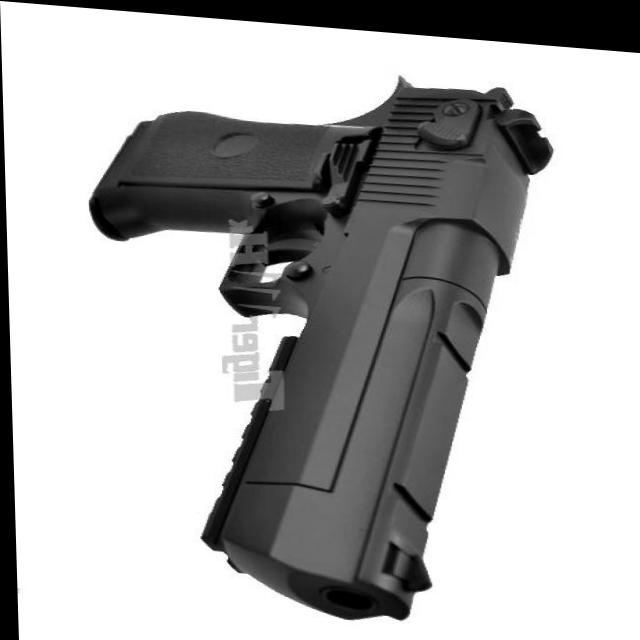handgun: (80, 26, 570, 633)
